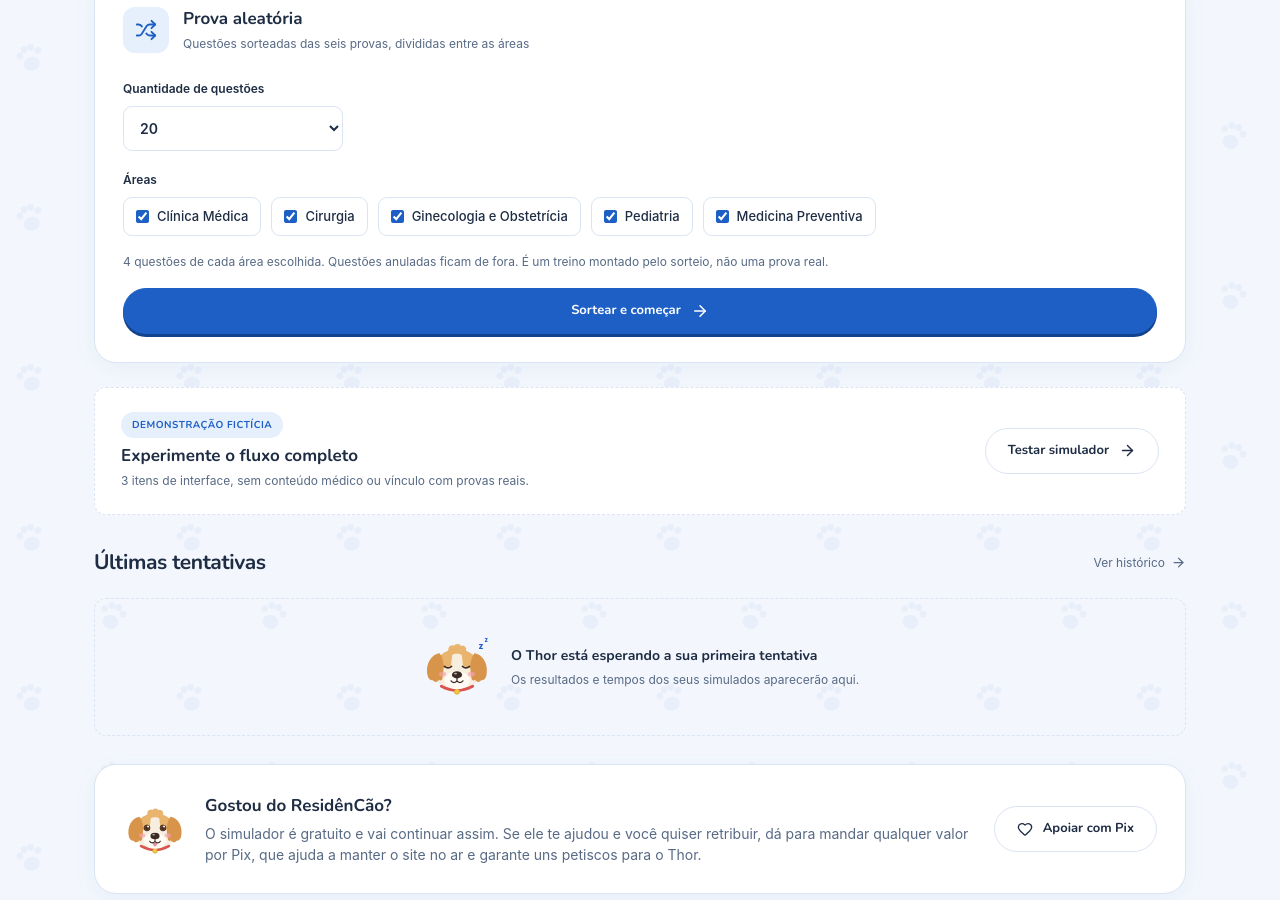
Test: Tela de prova › inicia o simulado na primeira questão
The image size is (1280, 900).
(page scrolled)
Click the button "Testar simulador" at {"x": 1072, "y": 451}, box [985,428,1159,474]
(page scrolled)
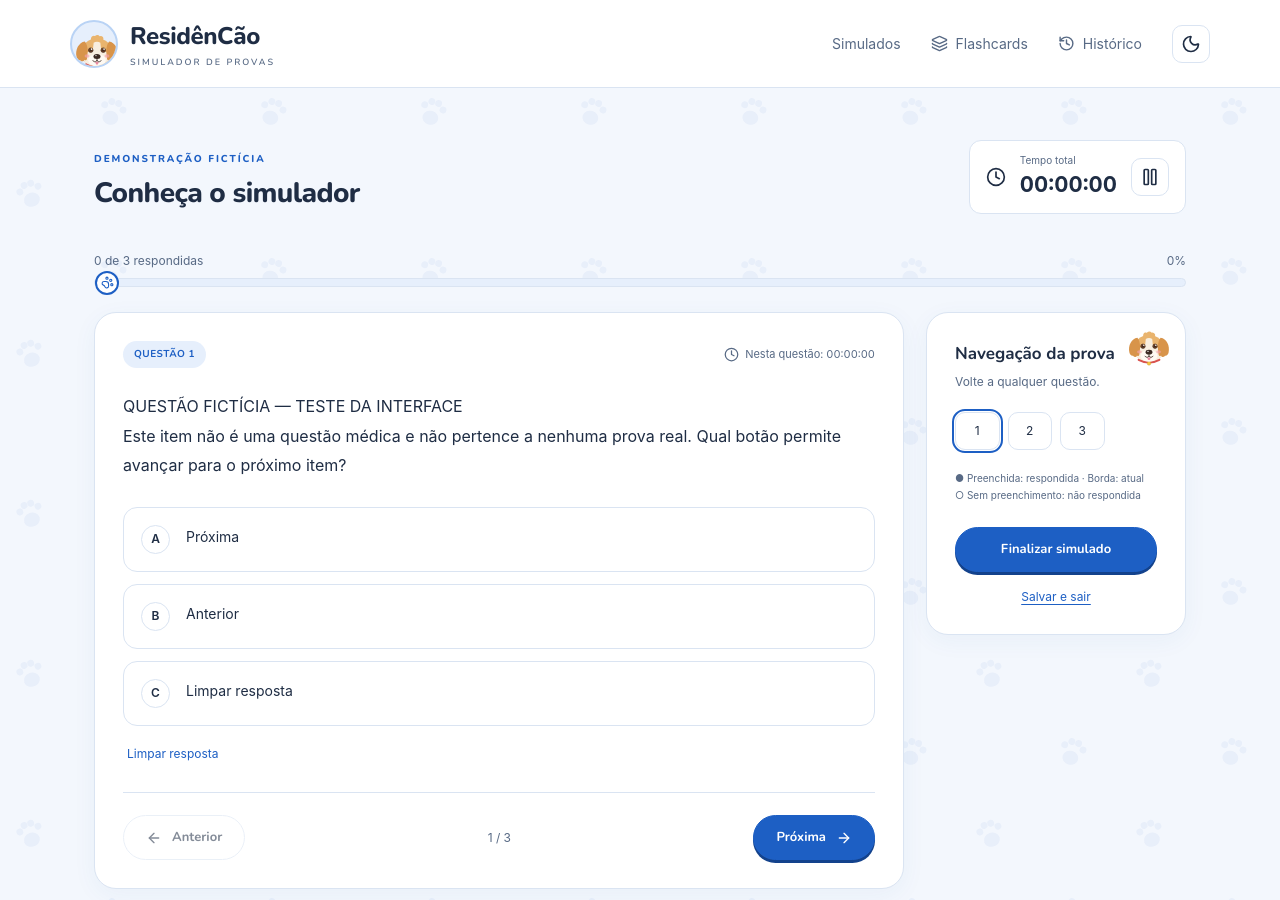
Expected: the heading "Conheça o simulador" is shown, [94,177,360,210]
Expected: the text "QUESTÃO 1" is shown, [123,341,206,368]
Expected: the text "1 / 3" is shown, [488,828,511,846]
